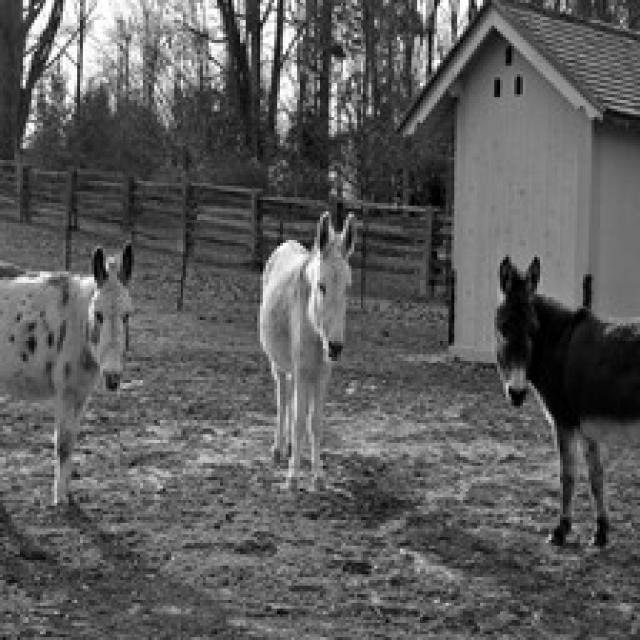Donkey: (492, 252, 637, 552), (0, 240, 134, 508), (257, 208, 357, 492)
